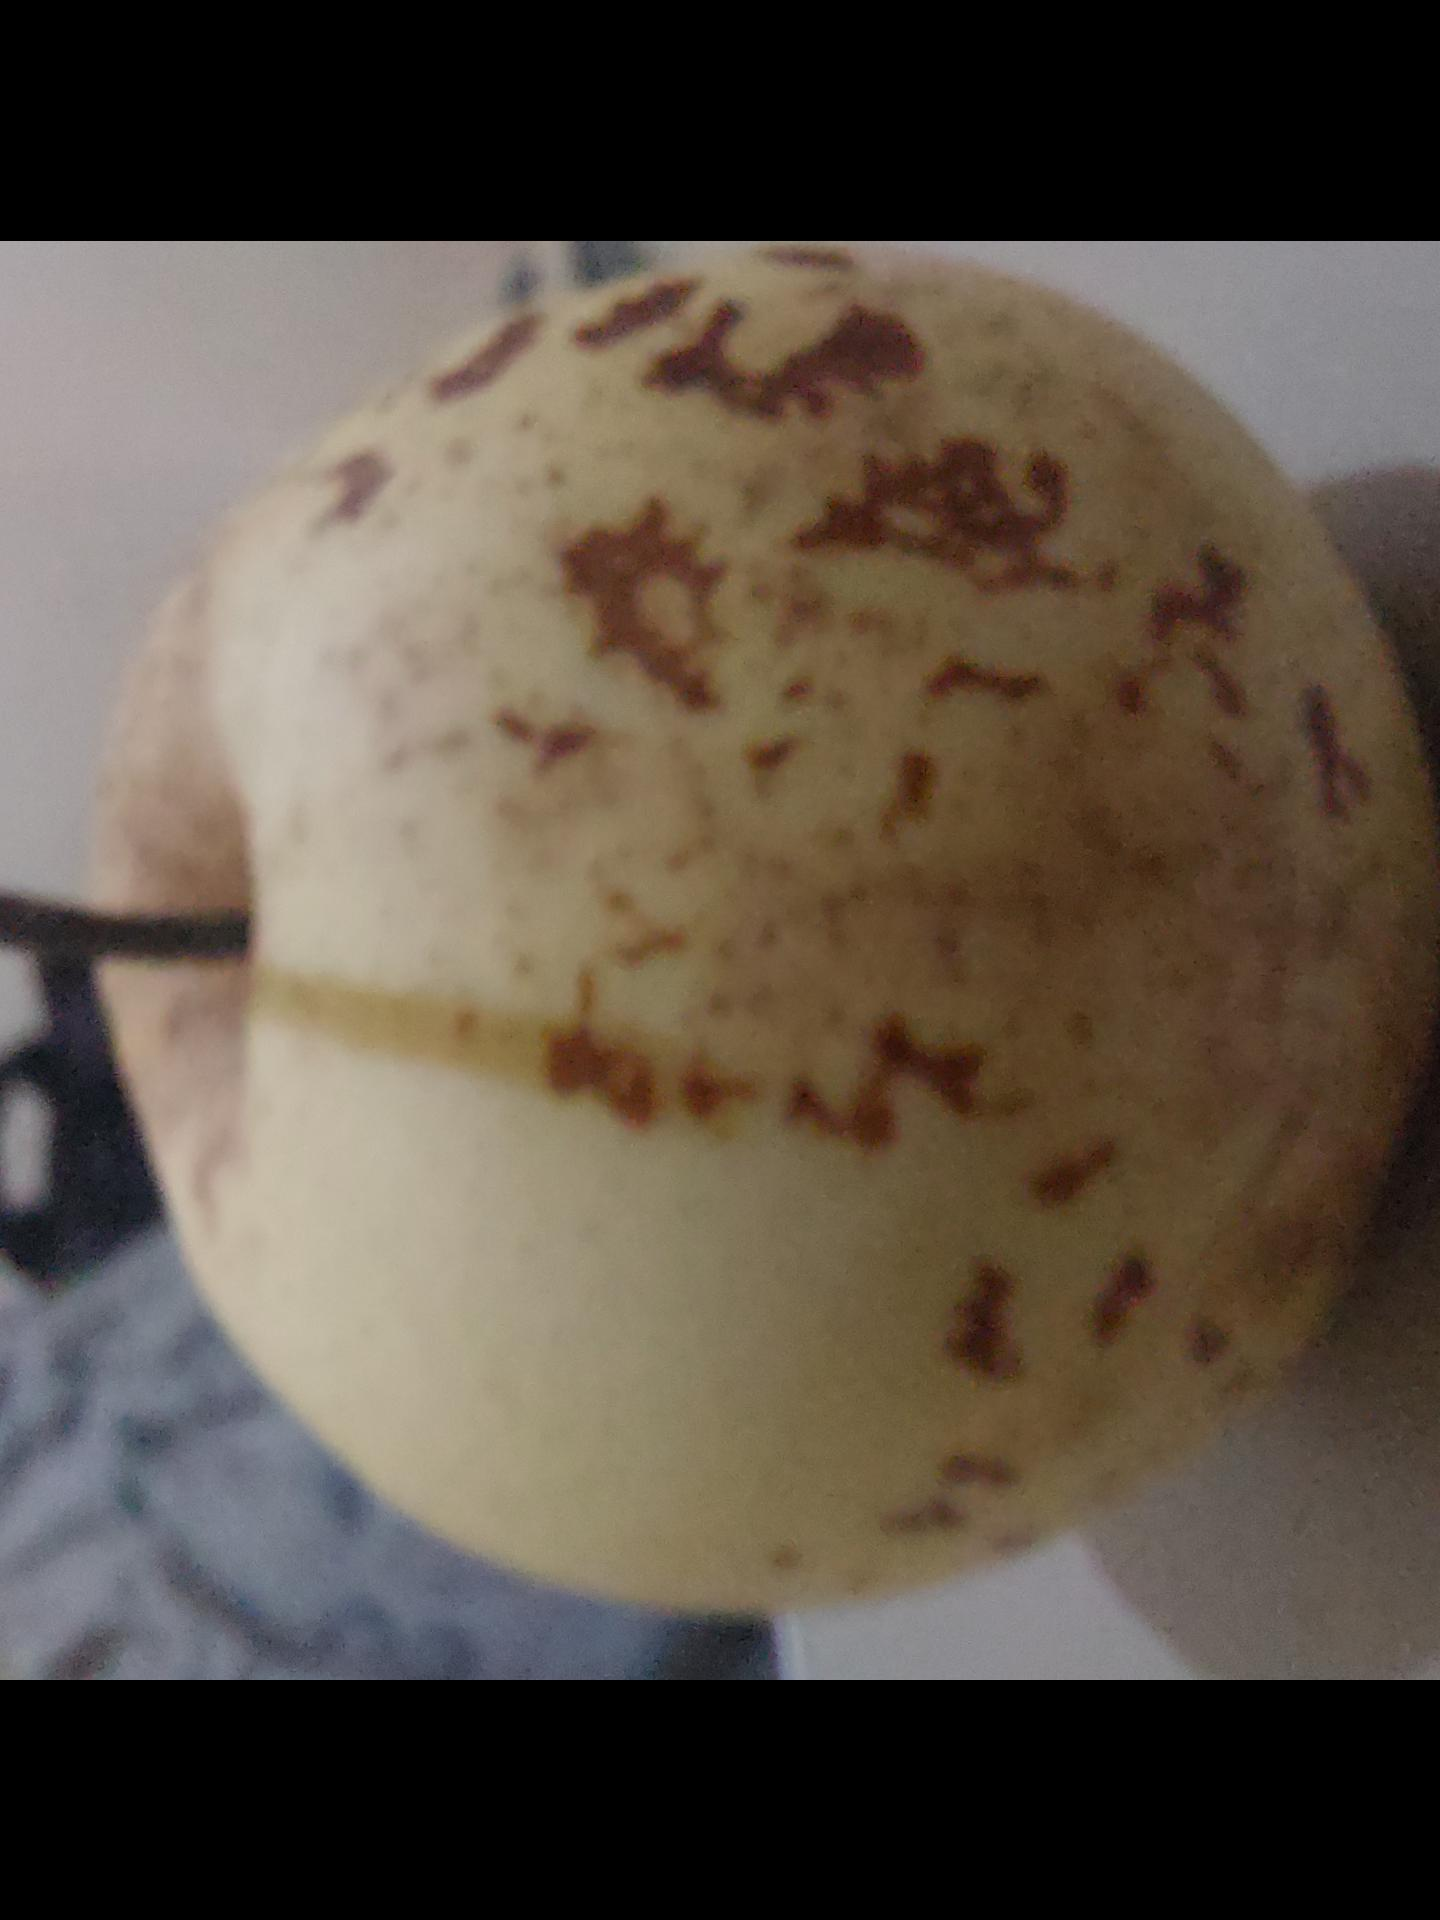Bad Pear: (0, 271, 1440, 1587)
